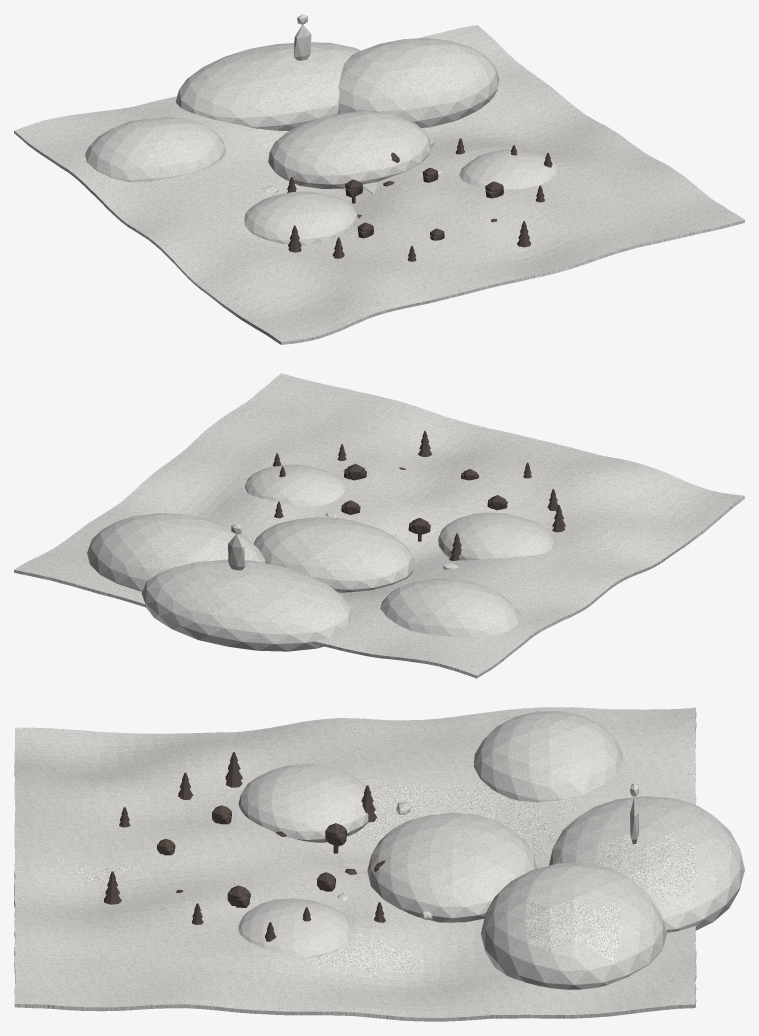
Rendered from bethlehem_valley_v3.glb.
3 views of the same model, one above another, from view 1: azimuth 30°, elevation 25°; view 2: azimuth 150°, elevation 25°; view 3: azimuth 270°, elevation 25° (orthographic). The views are drawn at different scales.
Visible parts, largest first — view 1: BethlehemValley_v2_Outline; view 2: BethlehemValley_v2_Outline; view 3: BethlehemValley_v2_Outline.
Boxes of the visible parts, left/top/right/bottom form: BethlehemValley_v2_Outline: left=14, top=14, right=744, bottom=344; BethlehemValley_v2_Outline: left=14, top=373, right=744, bottom=678; BethlehemValley_v2_Outline: left=14, top=707, right=744, bottom=1021.
Bounding box in the file's own units: 28.11 × 5.49 × 30.11.
81 materials, 51 textured.
